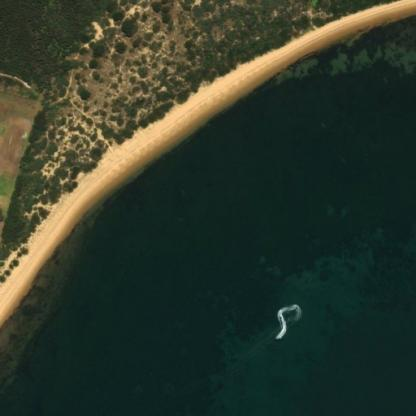ship: (270, 329, 288, 343)
